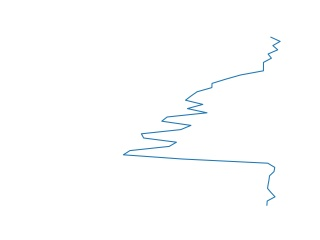proximalDeepseaFan: (120, 35, 281, 209)
